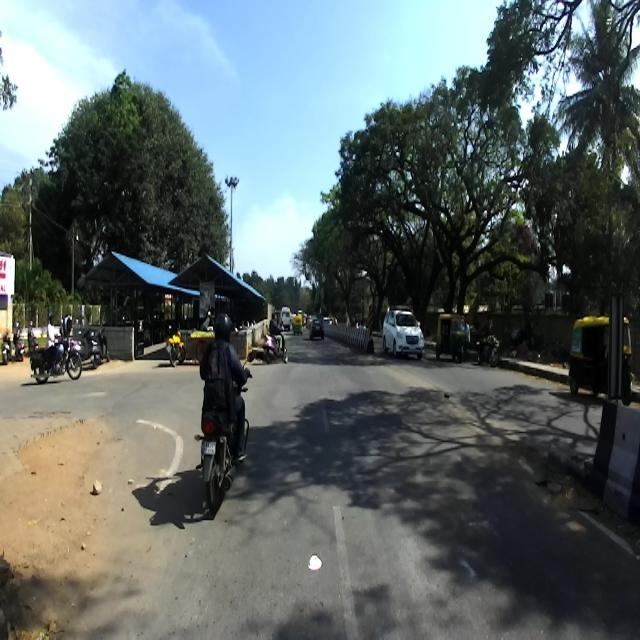Car_Toyota: (382, 308, 425, 359)
autorickshaw: (568, 316, 630, 404), (434, 306, 469, 362)
motorcycle_Honda: (191, 349, 251, 515)
motorcycle_RoyalEnfield: (28, 332, 83, 382)
motorcycle_TVS: (165, 327, 186, 368)
